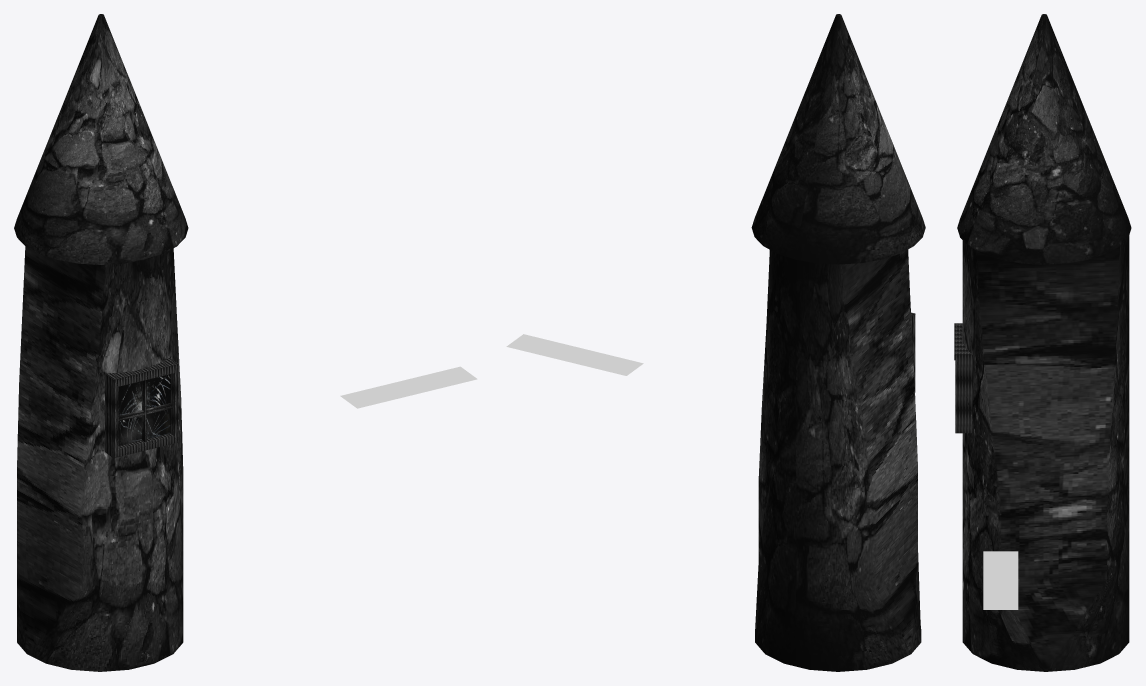
Rendered from Tower.FBX.
The picture shows the model from 3 angles, left to right: view 1: azimuth 30°, elevation 25°; view 2: azimuth 150°, elevation 25°; view 3: azimuth 270°, elevation 25°; orthographic projection.
Parts seen in each view (by area): view 1: Cylinder002, Cone001, Box004, Line005, Line002, Line001, Line003; view 2: Cylinder002, Cone001, Line005; view 3: Cylinder002, Cone001, Line005, Line004, Line001.
Part boxes in pixels (<box>): Cylinder002: <box>17,246,183,671</box>; Cone001: <box>14,14,188,264</box>; Box004: <box>118,374,170,445</box>; Line005: <box>340,366,477,408</box>; Line002: <box>104,373,118,457</box>; Line001: <box>105,357,178,386</box>; Line003: <box>114,433,177,457</box>; Cylinder002: <box>755,249,921,671</box>; Cone001: <box>751,14,925,264</box>; Line005: <box>506,334,643,375</box>; Cylinder002: <box>962,236,1129,671</box>; Cone001: <box>957,14,1131,264</box>; Line005: <box>983,551,1018,609</box>; Line004: <box>955,355,972,433</box>; Line001: <box>954,323,972,360</box>.
Size of the model in its own units: 140 by 197 by 50.88.
